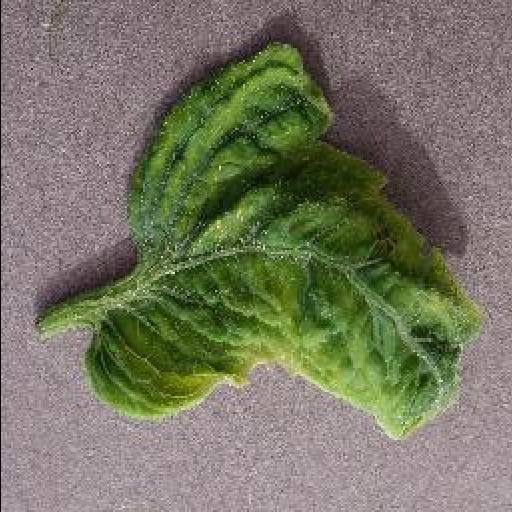disease_tomato: (86, 36, 482, 444)
